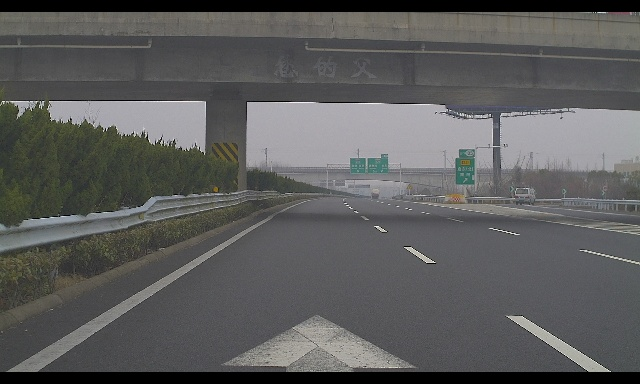car: (515, 188, 536, 205)
truck: (371, 189, 380, 199)
